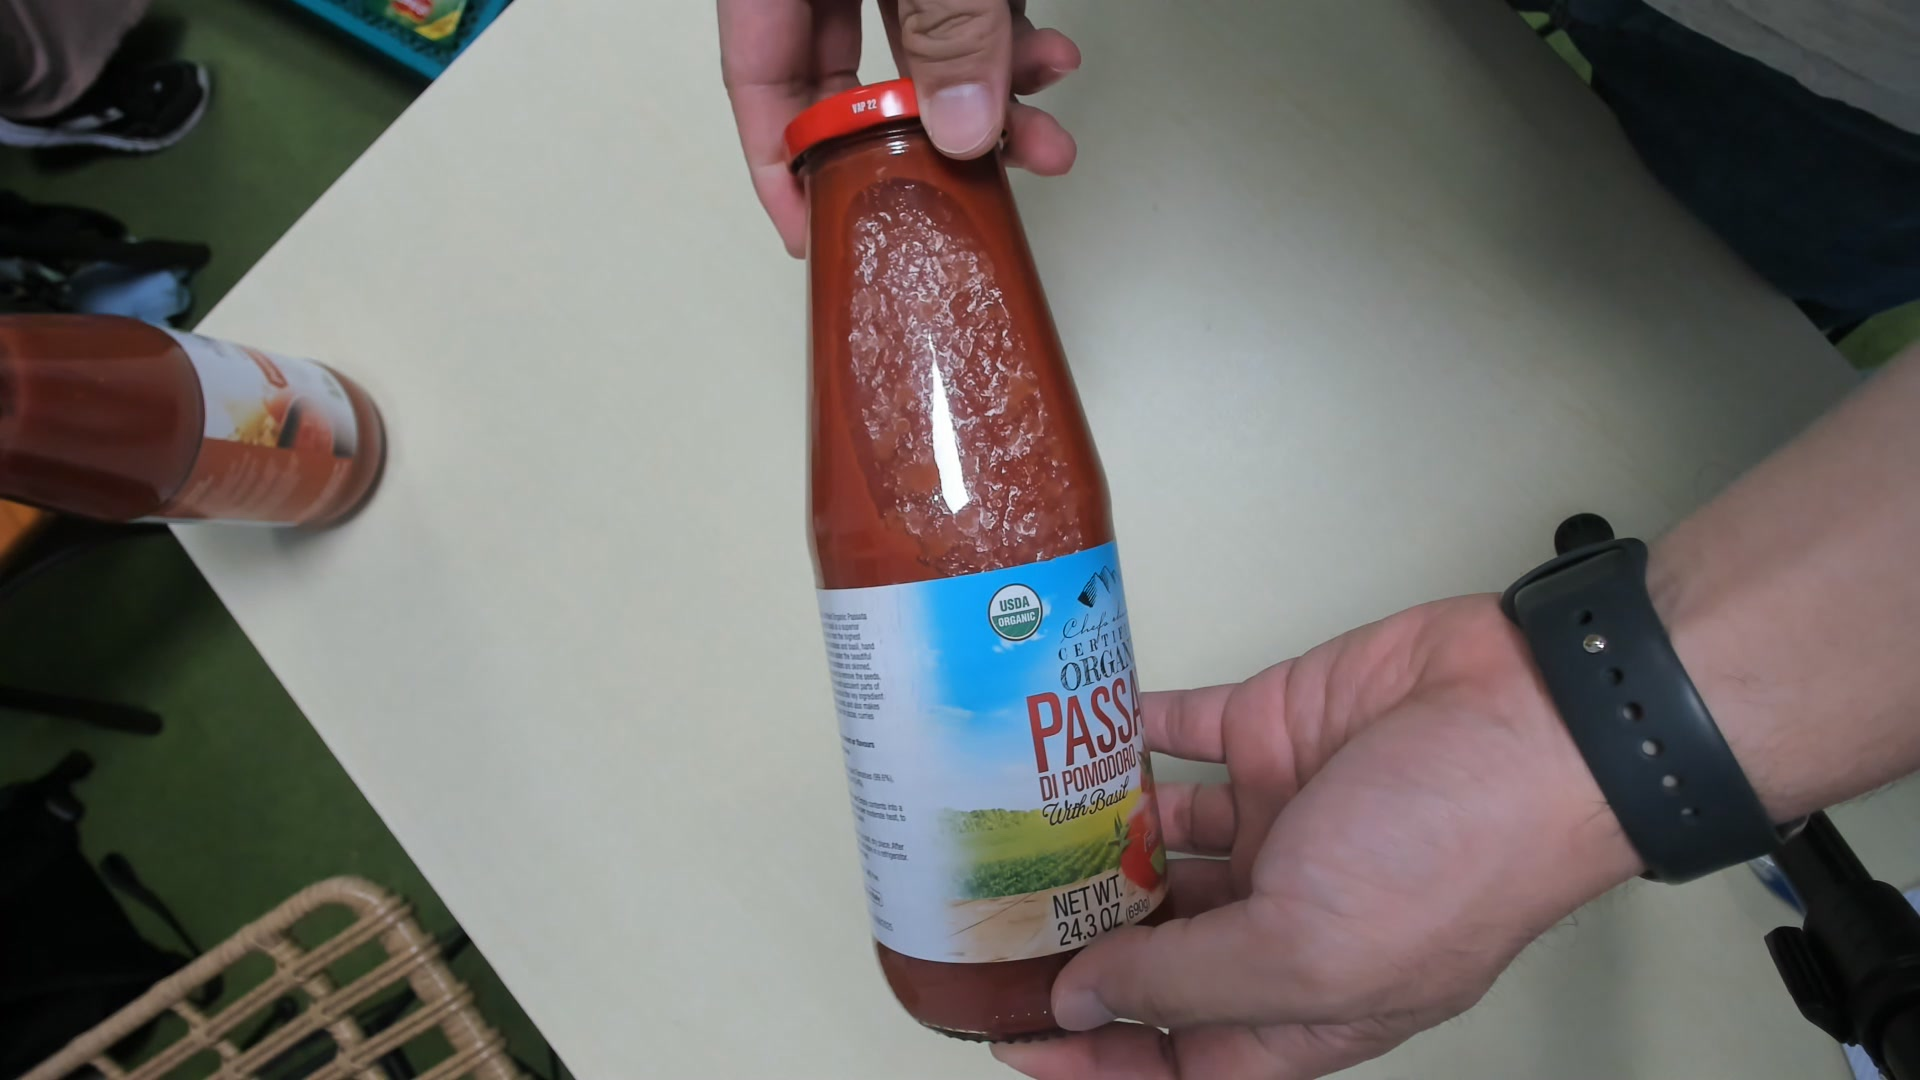PastaSauce_600-699g_NonHalal_NonHealthy: (779, 75, 1174, 1036)
